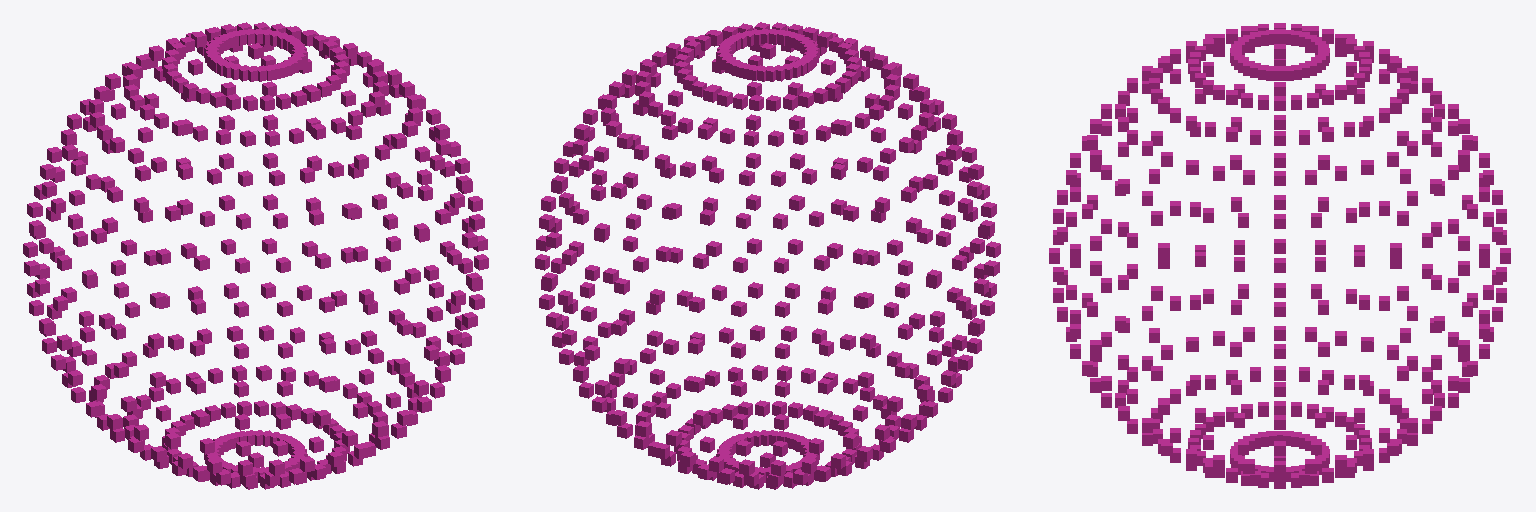
3 views of the same model, side by side, from view 1: azimuth 30°, elevation 25°; view 2: azimuth 150°, elevation 25°; view 3: azimuth 270°, elevation 25° (orthographic).
Parts seen in each view (by area): view 1: 平面; view 2: 平面; view 3: 平面.
Boxes of the visible parts, x1=… form: 平面: x1=23, y1=22, x2=488, y2=489; 平面: x1=535, y1=22, x2=1000, y2=489; 平面: x1=1049, y1=23, x2=1510, y2=488.
Bounding box in the file's own units: 2.05 × 2.05 × 2.05.